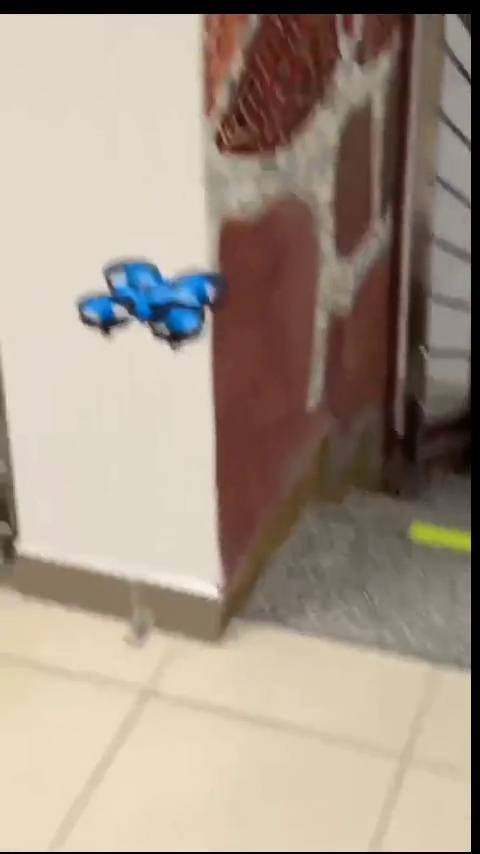drone: (77, 261, 230, 346)
